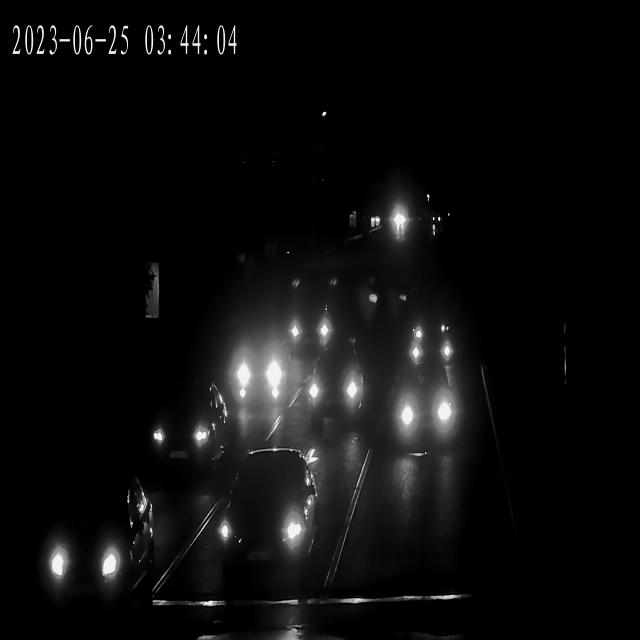Car: (52, 480, 159, 626), (212, 453, 331, 582), (146, 387, 226, 474), (384, 371, 458, 454), (225, 334, 292, 405), (299, 353, 368, 420), (397, 296, 458, 362), (280, 302, 340, 358), (393, 203, 411, 236)
